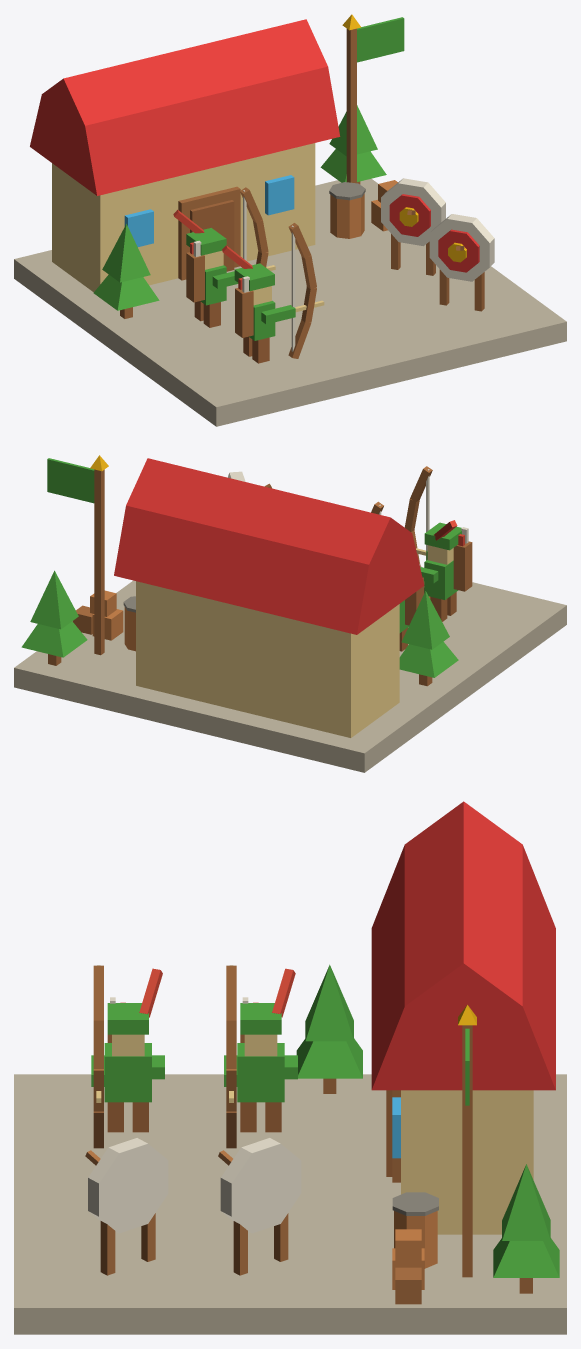
File: archery_range_t2_v3.glb
3 renders of one model, top to bottom at view 1: azimuth 30°, elevation 25°; view 2: azimuth 150°, elevation 25°; view 3: azimuth 270°, elevation 25°, orthographic. The views are drawn at different scales.
Visible parts, largest first — view 1: archery_range_t2_v3; view 2: archery_range_t2_v3; view 3: archery_range_t2_v3.
Part boxes in pixels (left/top/right/bottom): archery_range_t2_v3: left=14, top=14, right=566, bottom=426; archery_range_t2_v3: left=14, top=455, right=566, bottom=772; archery_range_t2_v3: left=14, top=801, right=566, bottom=1334.
Size of the model in its own units: 0.755 by 0.46 by 0.75.
1 material, 1 textured.
